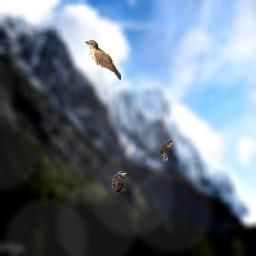Cuckoo: (85, 40, 121, 80), (160, 140, 176, 162), (112, 171, 127, 192)
